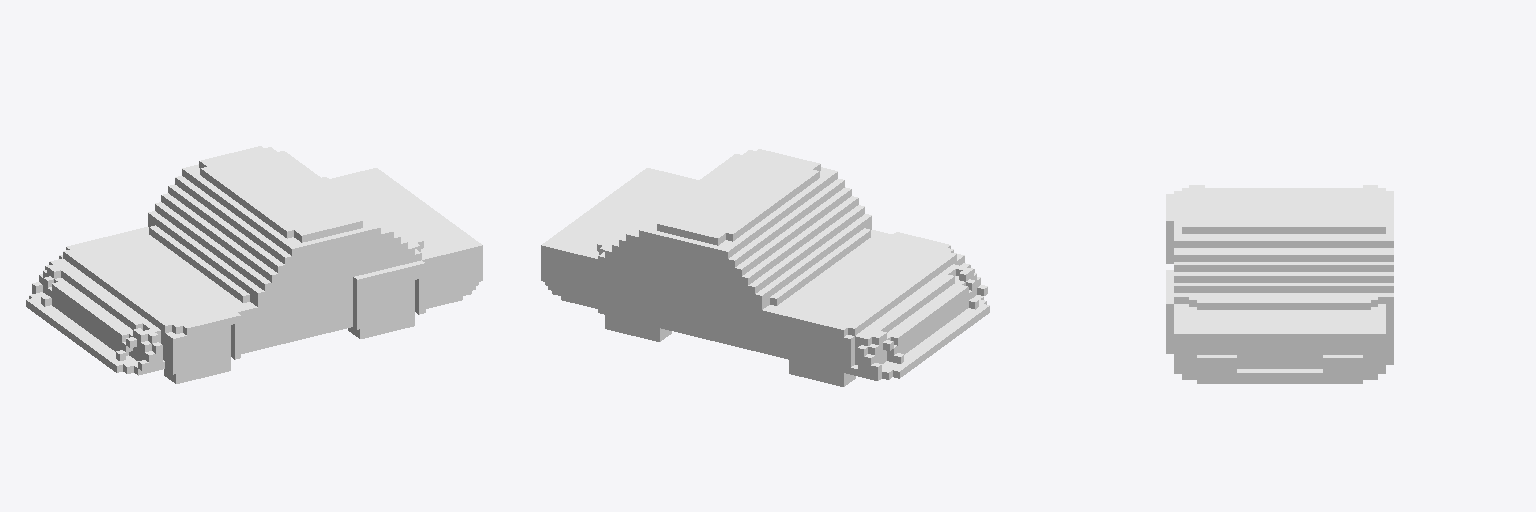
Rendered from car-sedan-f.obj.
3 renders of one model, left to right at view 1: azimuth 30°, elevation 25°; view 2: azimuth 150°, elevation 25°; view 3: azimuth 270°, elevation 25°, orthographic.
Parts seen in each view (by area): view 1: car:sedan-f; view 2: car:sedan-f; view 3: car:sedan-f.
Boxes of the visible parts, x1,y1,x2,y2 form: car:sedan-f: [26, 146, 482, 383]; car:sedan-f: [541, 149, 989, 386]; car:sedan-f: [1166, 185, 1393, 383].
Size of the model in its own units: 53 by 16 by 29.